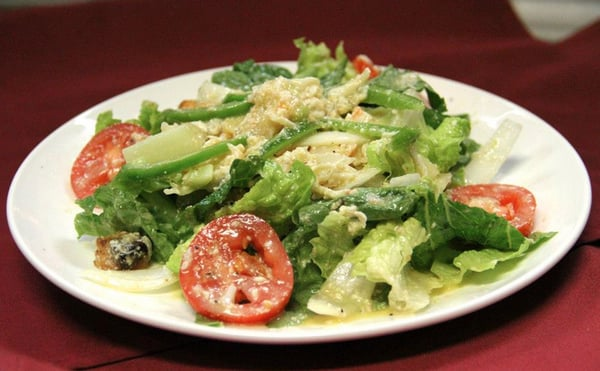curry: (0, 2, 575, 369)
